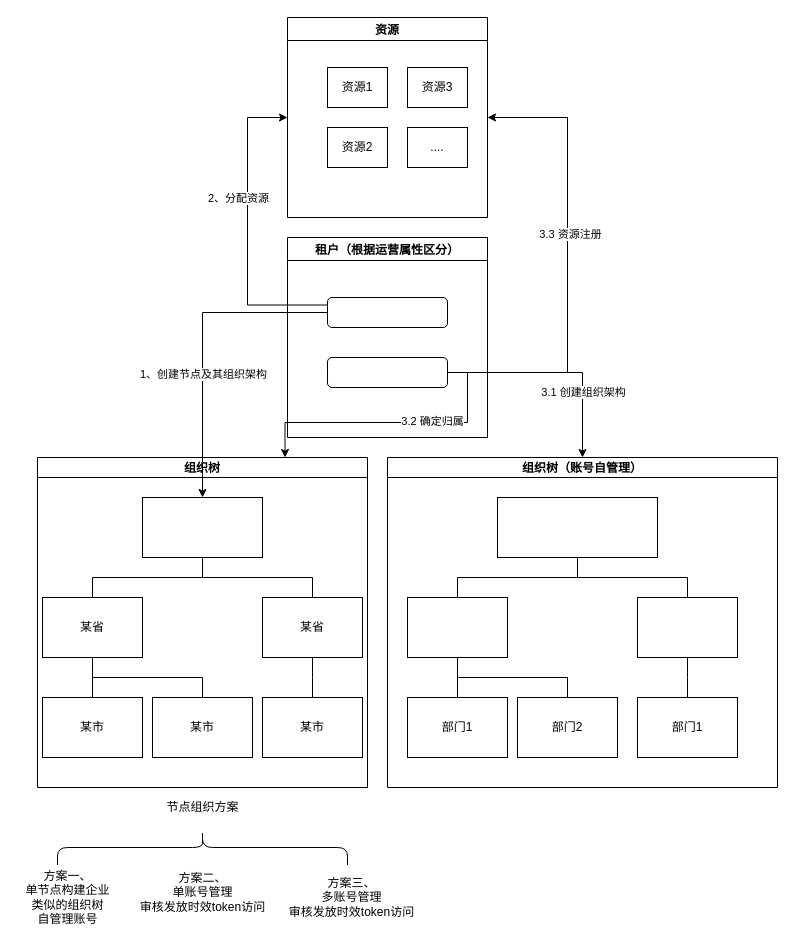
This 795x945 diagram has some shape labels left out. Here are the shapes that lost their labels. From the top down, the centre of each, then its label:
At pixel 387 312: "政府机构".
At pixel 387 372: "企业".
At pixel 202 527: "root".
At pixel 577 527: "企业总部（关联默认账号）".
At pixel 457 627: "子公司1".
At pixel 687 627: "子公司2".
